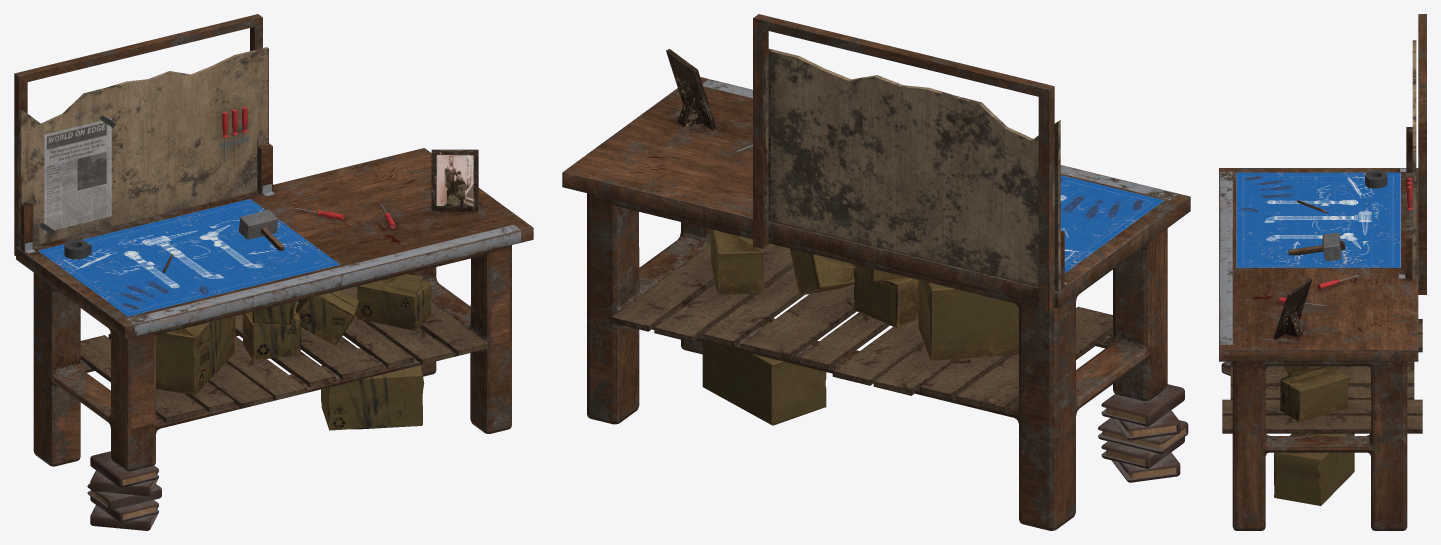
The model's file is workbench.glb.
3 renders of one model, left to right at view 1: azimuth 30°, elevation 25°; view 2: azimuth 150°, elevation 25°; view 3: azimuth 270°, elevation 25°, orthographic. The views are drawn at different scales.
Visible parts, largest first — view 1: polySurface14, pCube40, polySurface25_pCube44, polySurface19, pCube44_polySurface26, pCube29, pCube42, pCylinder9; view 2: polySurface14, polySurface19, pCube40, pCube29, polySurface25_pCube44, pCube42; view 3: polySurface14, polySurface25_pCube44, pCube40, polySurface19, pCylinder9, pCube42.
Part boxes in pixels (left/top/right/bottom): polySurface14: left=14, top=14, right=533, bottom=471; pCube40: left=156, top=274, right=431, bottom=430; polySurface25_pCube44: left=38, top=199, right=339, bottom=316; polySurface19: left=80, top=286, right=489, bottom=422; pCube44_polySurface26: left=44, top=118, right=111, bottom=232; pCube29: left=87, top=451, right=161, bottom=530; pCube42: left=431, top=149, right=478, bottom=211; pCylinder9: left=64, top=106, right=395, bottom=273; polySurface14: left=562, top=14, right=1190, bottom=530; polySurface19: left=610, top=243, right=1112, bottom=412; pCube40: left=702, top=229, right=1018, bottom=425; pCube29: left=1098, top=384, right=1188, bottom=482; polySurface25_pCube44: left=1060, top=175, right=1163, bottom=273; pCube42: left=666, top=49, right=716, bottom=130; polySurface14: left=1219, top=14, right=1426, bottom=530; polySurface25_pCube44: left=1236, top=172, right=1400, bottom=267; pCube40: left=1274, top=366, right=1354, bottom=505; polySurface19: left=1222, top=319, right=1422, bottom=433; pCylinder9: left=1279, top=170, right=1412, bottom=306; pCube42: left=1274, top=278, right=1312, bottom=339.
Size of the model in its own units: 1.87 by 1.62 by 0.8719.
Materials: 8 (8 with a texture image).
